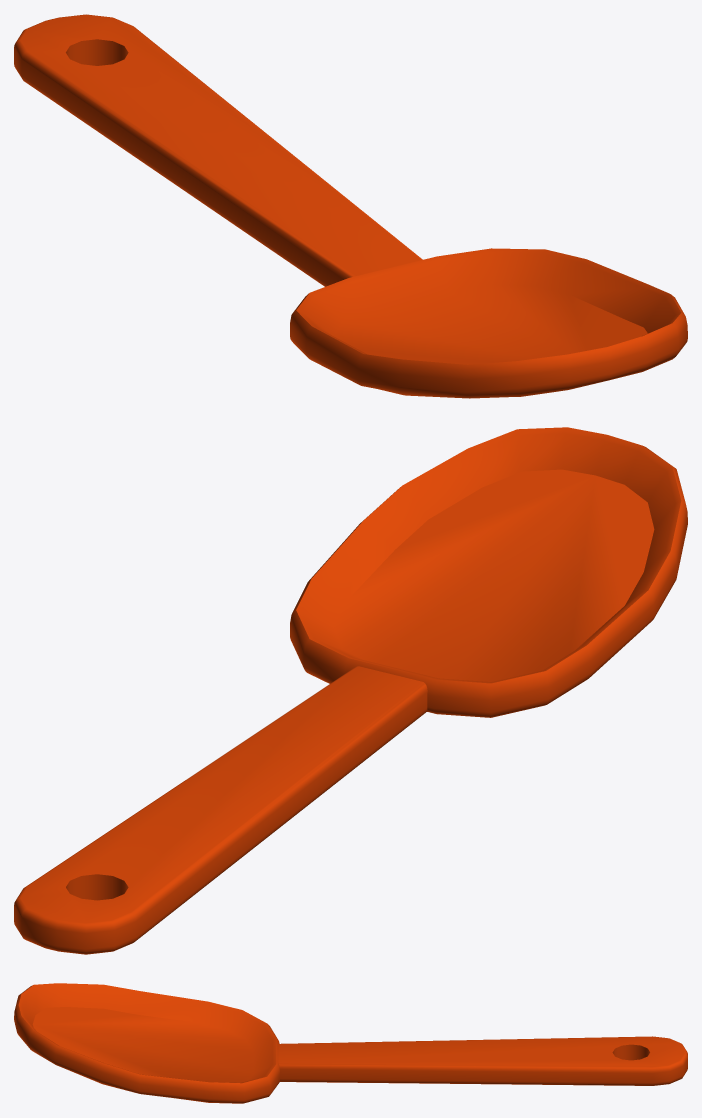
The model's file is Kitchen Tools_4.fbx.
The picture shows the model from 3 angles, top to bottom: view 1: azimuth 30°, elevation 25°; view 2: azimuth 150°, elevation 25°; view 3: azimuth 270°, elevation 25°; orthographic projection. The views are drawn at different scales.
Visible parts, largest first — view 1: Kitchen Tools_4; view 2: Kitchen Tools_4; view 3: Kitchen Tools_4.
Part boxes in pixels (box(x1,y1,x2,y2)): Kitchen Tools_4: box(14, 14, 687, 398); Kitchen Tools_4: box(14, 427, 687, 954); Kitchen Tools_4: box(14, 983, 687, 1103).
Bounding box in the file's own units: 0.0973 × 0.0353 × 0.3203.
